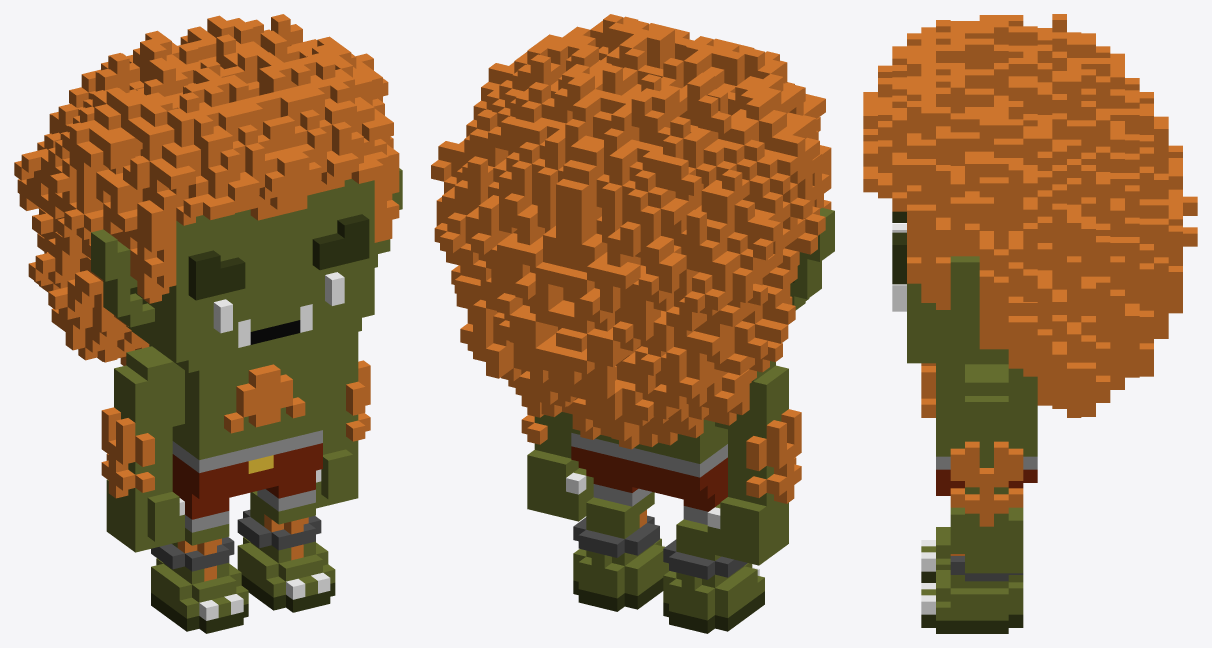
File: asset.glb
The picture shows the model from 3 angles, left to right: view 1: azimuth 30°, elevation 25°; view 2: azimuth 150°, elevation 25°; view 3: azimuth 270°, elevation 25°; orthographic projection. The views are drawn at different scales.
Parts seen in each view (by area): view 1: Cube.1864; view 2: Cube.1864; view 3: Cube.1864.
Boxes of the visible parts, x1=… form: Cube.1864: x1=14, y1=14, x2=402, y2=633; Cube.1864: x1=431, y1=14, x2=834, y2=633; Cube.1864: x1=863, y1=14, x2=1197, y2=633.
Size of the model in its own units: 26 by 41 by 23.
